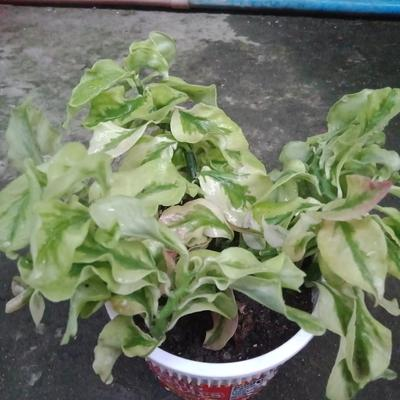Pothos plant: (43, 63, 388, 345)
